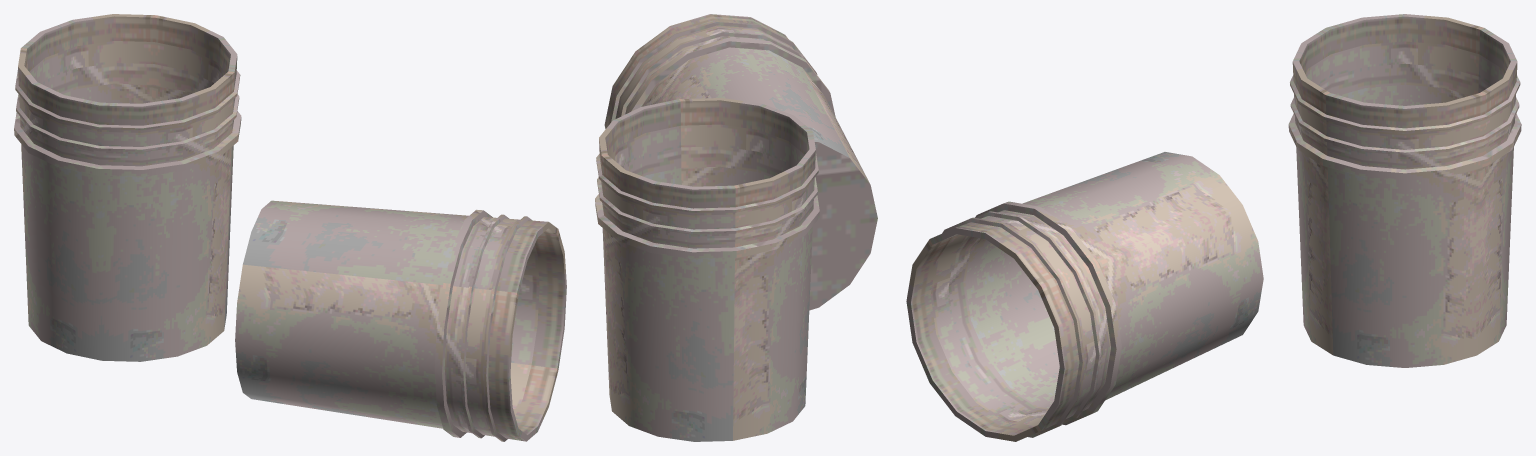
Rendered from tachos_Rooftop.fbx.
3 renders of one model, left to right at view 1: azimuth 30°, elevation 25°; view 2: azimuth 150°, elevation 25°; view 3: azimuth 270°, elevation 25°, orthographic. The views are drawn at different scales.
Parts seen in each view (by area): view 1: tacho2, tacho2.001; view 2: tacho2, tacho2.001; view 3: tacho2, tacho2.001.
Boxes of the visible parts, left/top/right/bottom form: tacho2: left=14, top=14, right=241, bottom=361; tacho2.001: left=235, top=200, right=566, bottom=441; tacho2: left=595, top=98, right=819, bottom=441; tacho2.001: left=604, top=14, right=877, bottom=310; tacho2: left=1288, top=14, right=1521, bottom=367; tacho2.001: left=906, top=152, right=1263, bottom=441.
Bounding box in the file's own units: 0.6771 × 0.478 × 0.9573.
